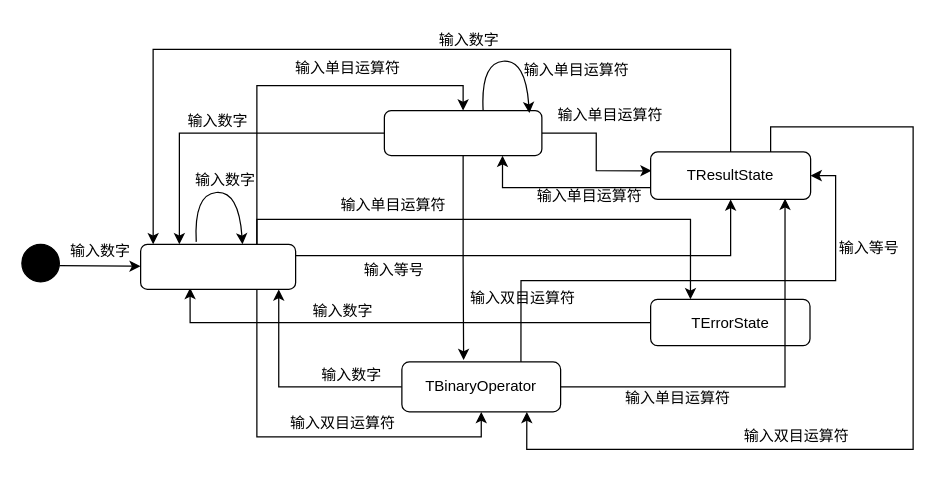
This 945x481 diagram has some shape labels left out. The centre of each missing label's shape, as x and y in pixels:
"TNumberInputState" belongs at (x=217, y=266).
"TUnaryOperatorState" belongs at (x=462, y=132).
